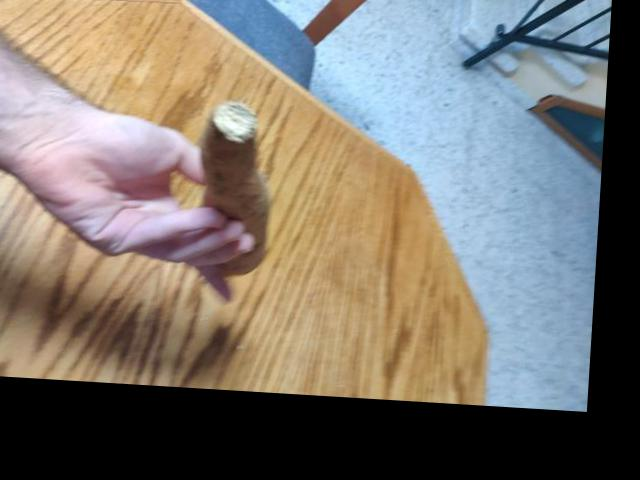sweet_potato: (189, 129, 275, 268)
